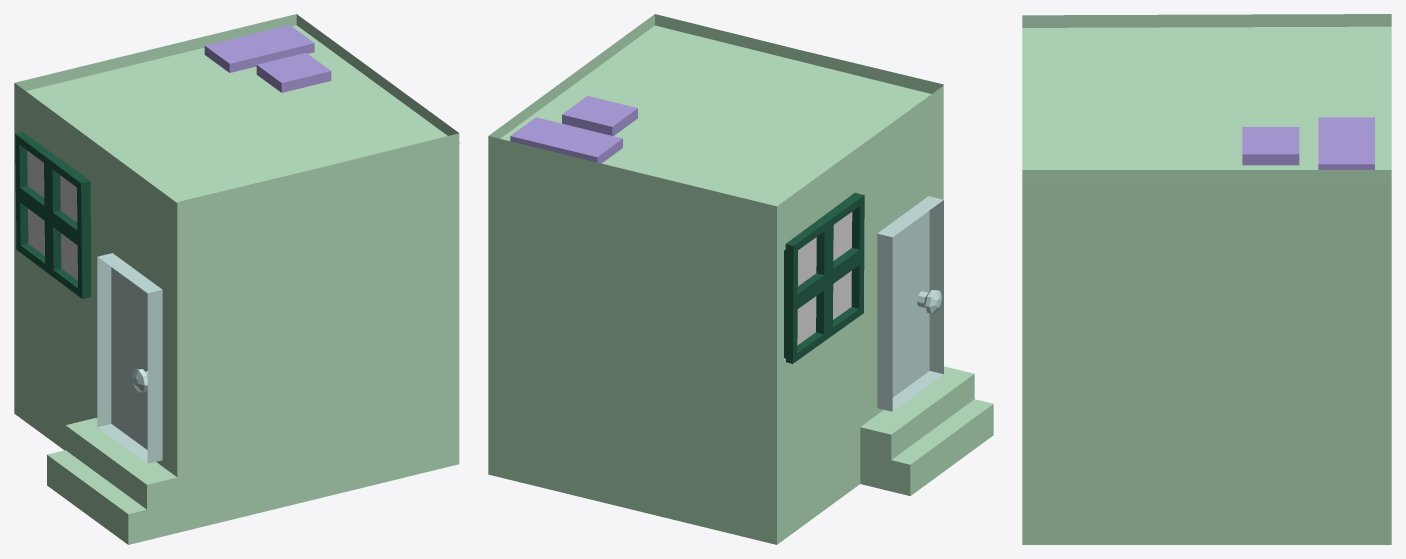
File: house.fbx
The picture shows the model from 3 angles, left to right: view 1: azimuth 30°, elevation 25°; view 2: azimuth 150°, elevation 25°; view 3: azimuth 270°, elevation 25°; orthographic projection. The views are drawn at different scales.
Visible parts, largest first — view 1: Cube; view 2: Cube; view 3: Cube.
Boxes of the visible parts, x1,y1,x2,y2 form: Cube: (14,14,459,544); Cube: (488,14,993,544); Cube: (1022,14,1391,544).
Size of the model in its own units: 1526 by 1457 by 1300.
